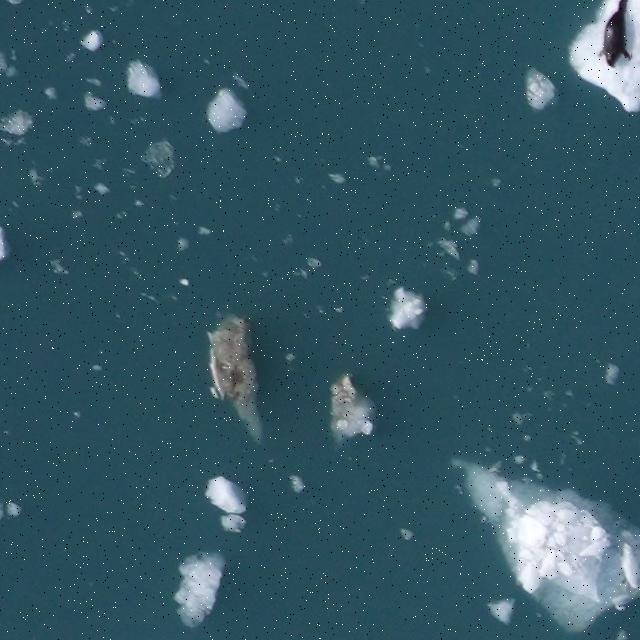seal: (602, 1, 631, 66)
